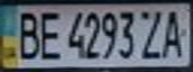2: (81, 7, 103, 61)
3: (115, 7, 139, 61)
4: (63, 7, 84, 60)
9: (100, 8, 121, 61)
A: (157, 6, 190, 60)
B: (9, 7, 42, 61)
E: (33, 7, 63, 61)
Z: (136, 7, 166, 61)
